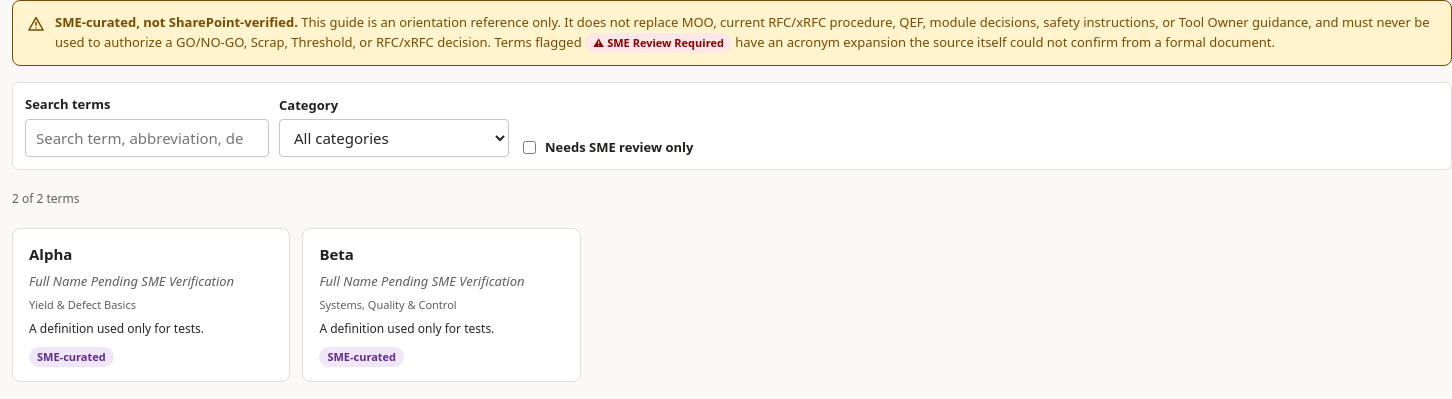
SurvivalGuideView › filters by category
Select "Systems, Quality & Control" in the dropdown labelled "Category": (394,138) [279, 119, 509, 157]
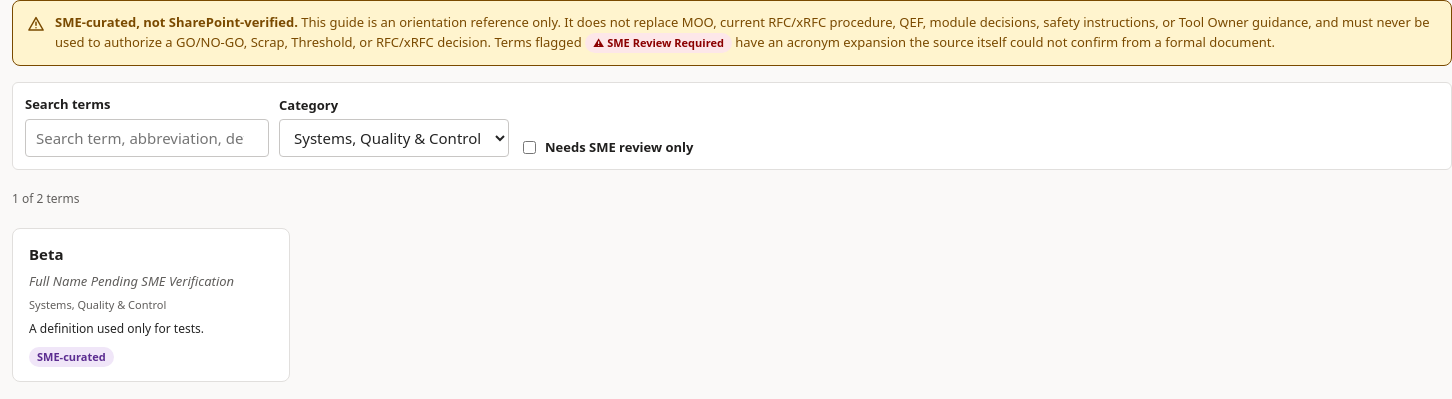
Expected: the button "Beta" is shown, [12, 228, 290, 382]
Expected: the button "Alpha" is gone
